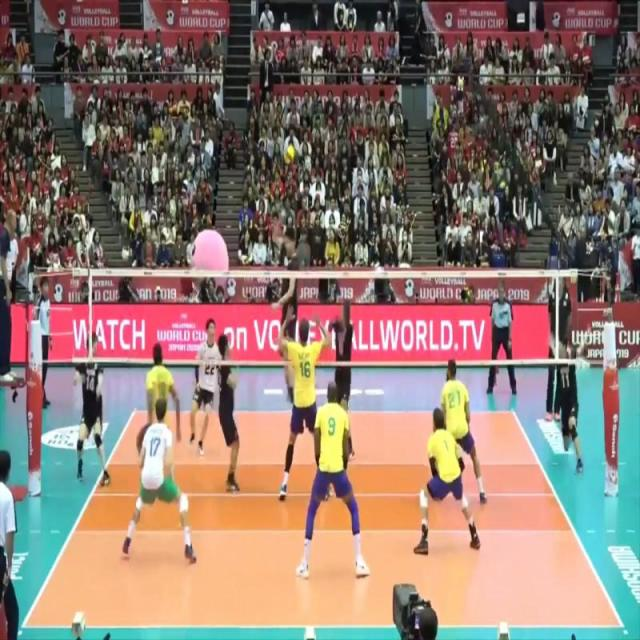volleyball: (281, 140, 298, 167)
